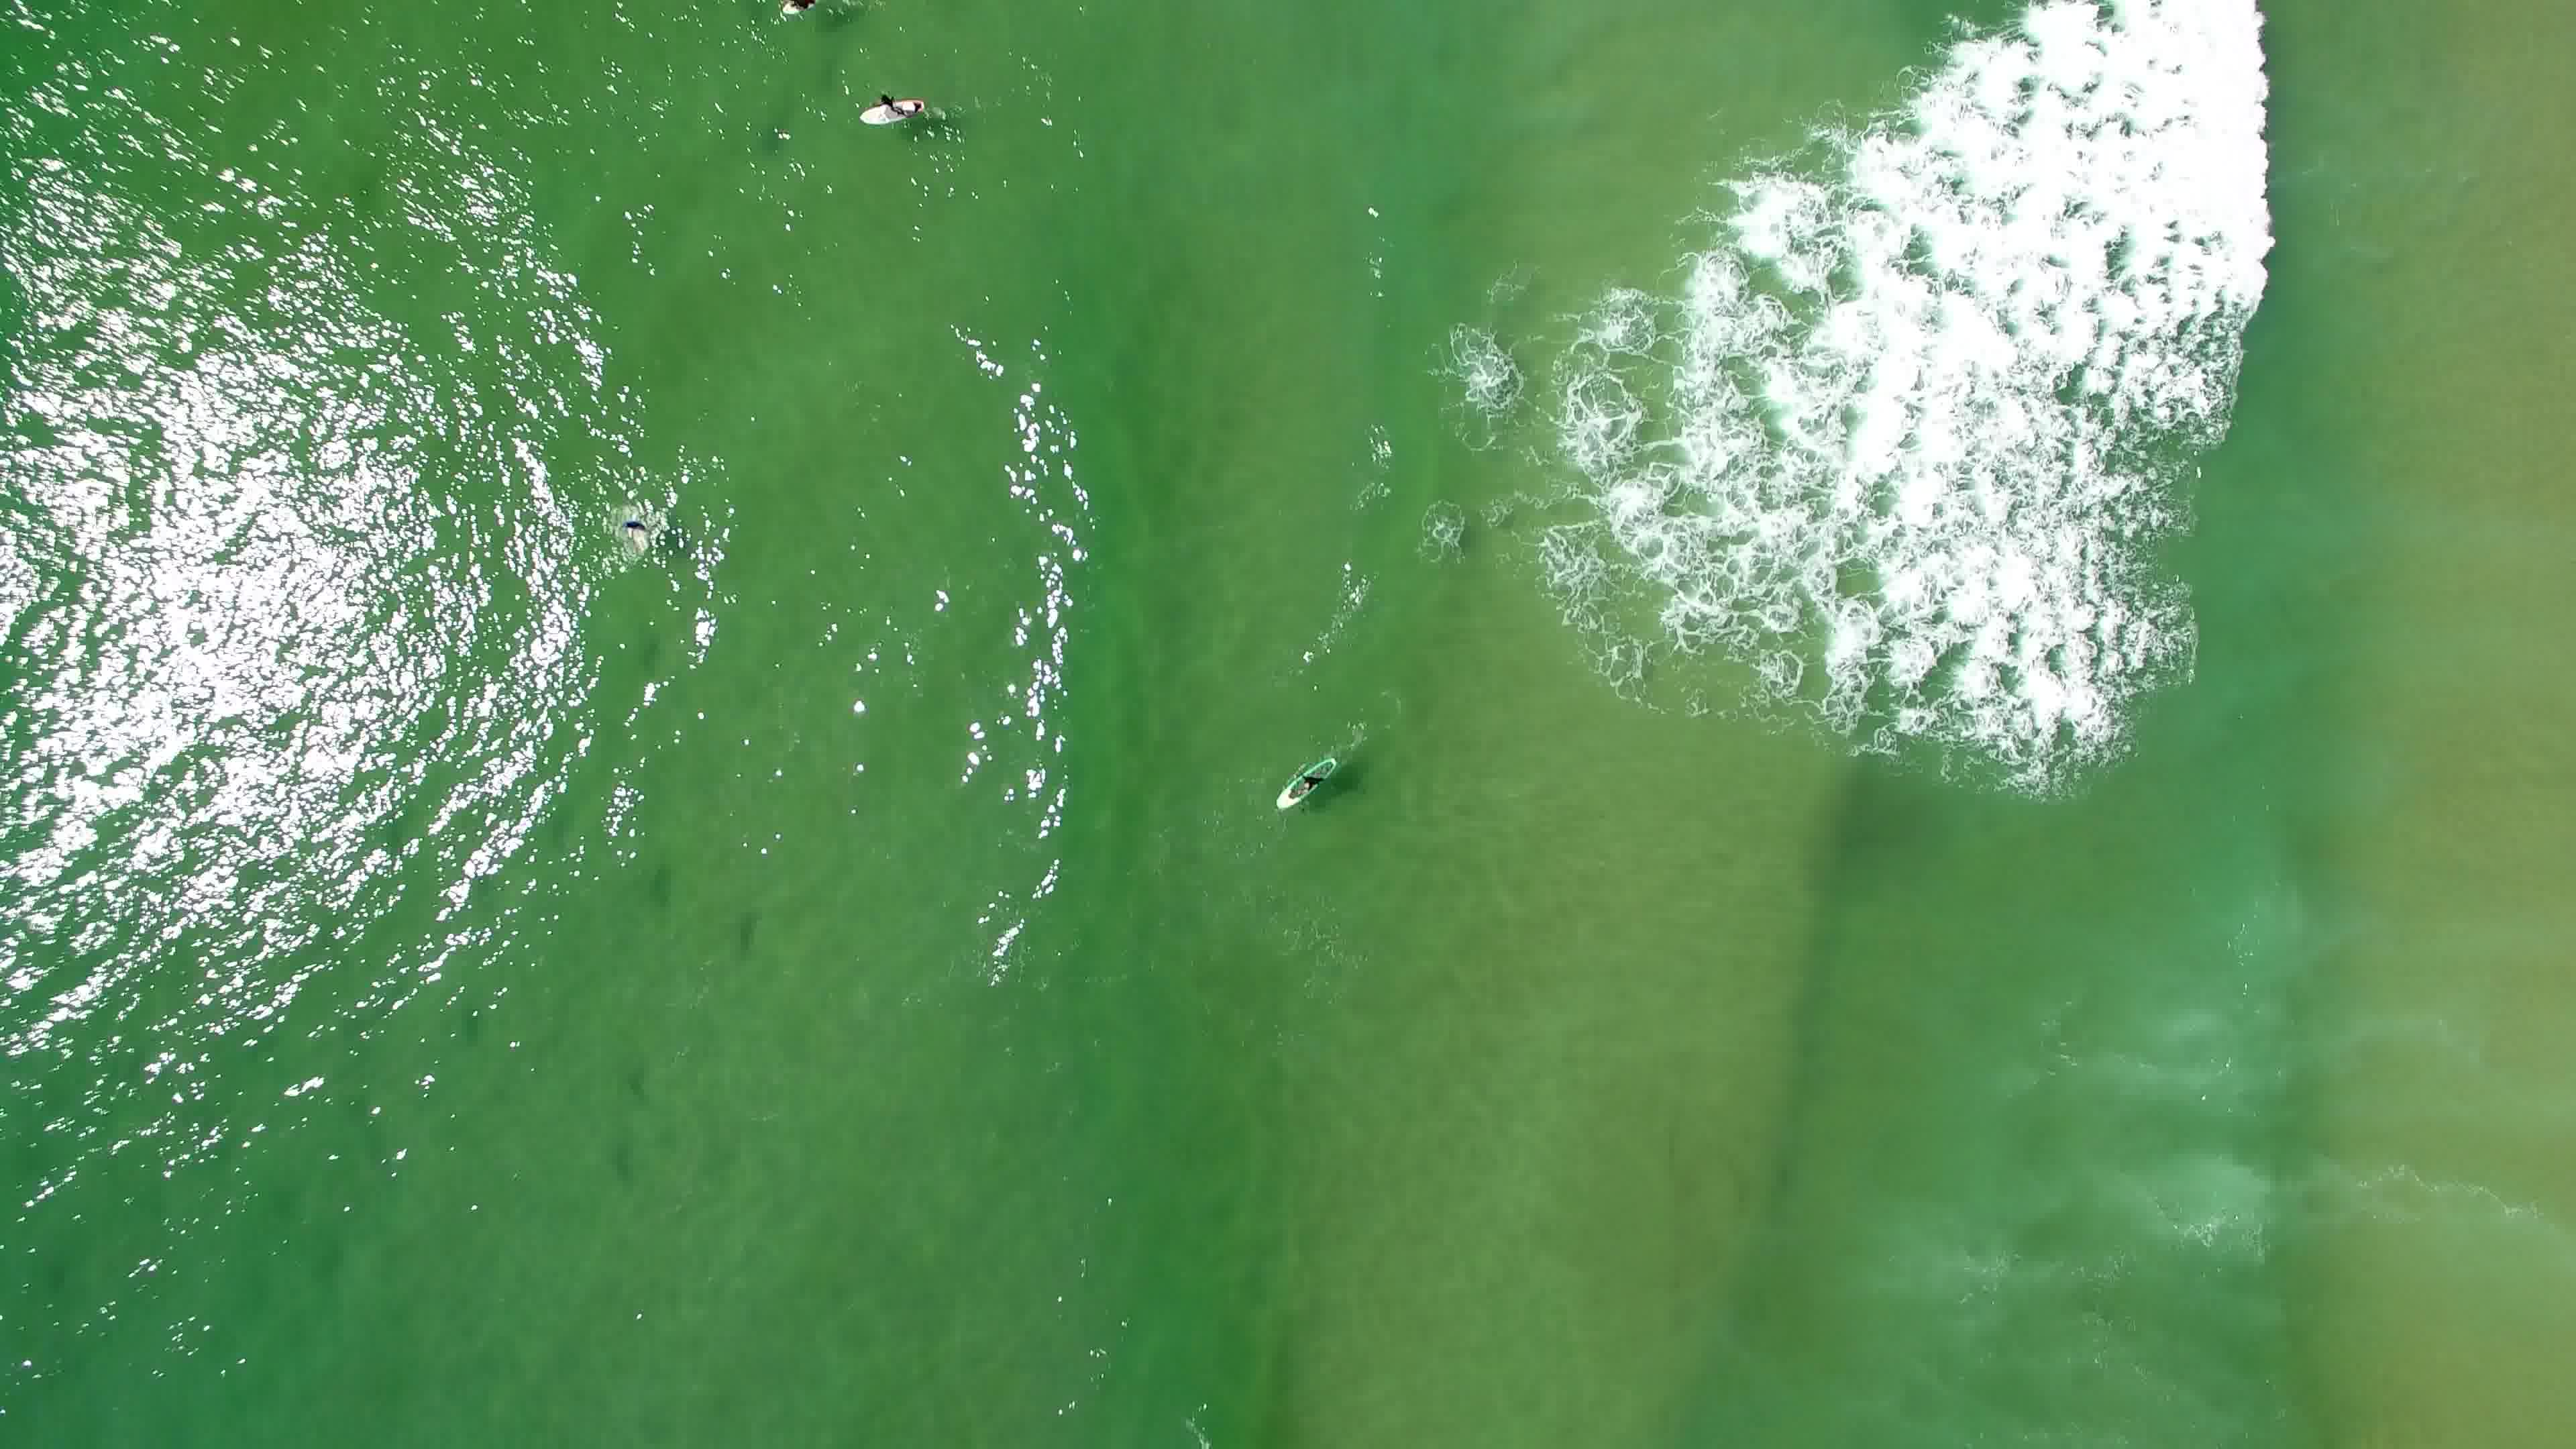surfer: (1269, 752, 1350, 816), (610, 502, 678, 564), (853, 94, 934, 127), (775, 0, 824, 21)
